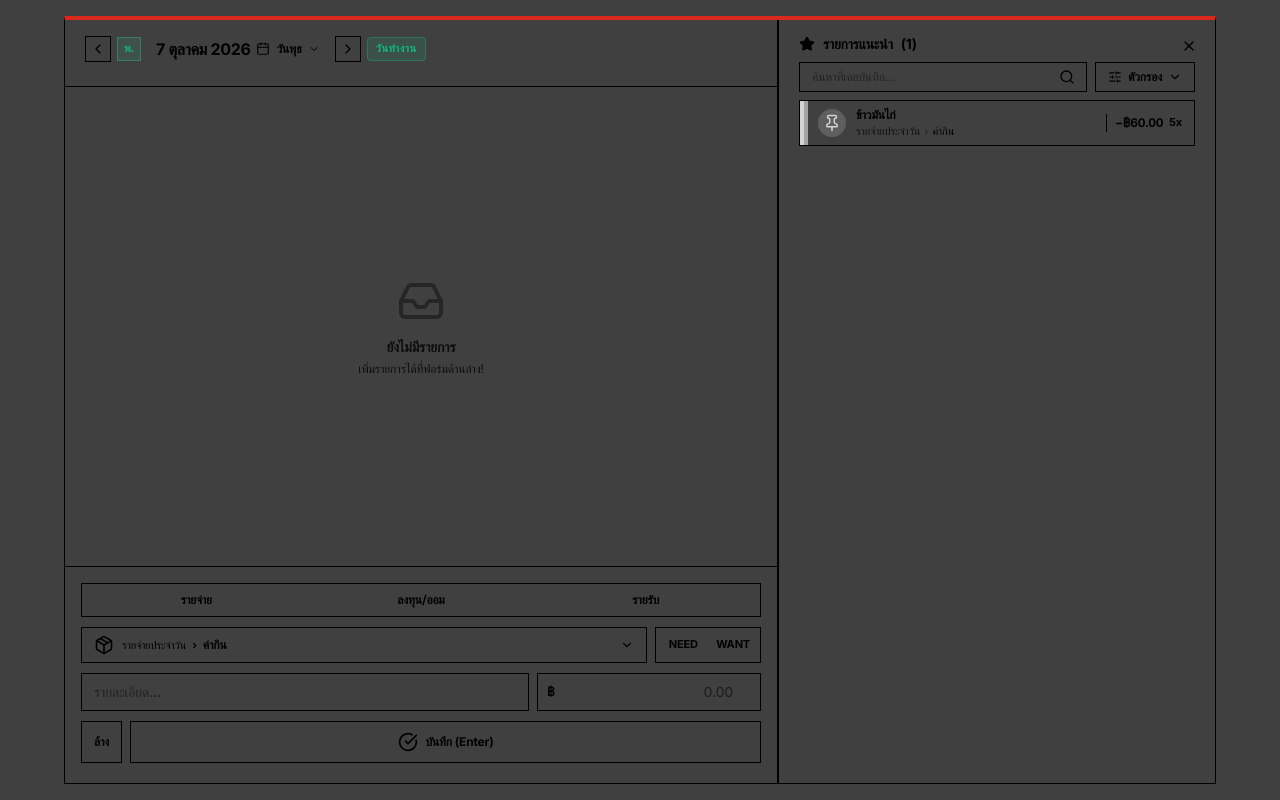
Test case: DayDetailModal — quick suggestions › switches to the income suggestions when the form switches to income
The width and height of the screenshot is (1280, 800).
What coordinates should you click on to do the following:
click the button "รายรับ"
I would click on:
 (646, 600)
Its box is 533,586 -> 758,614.
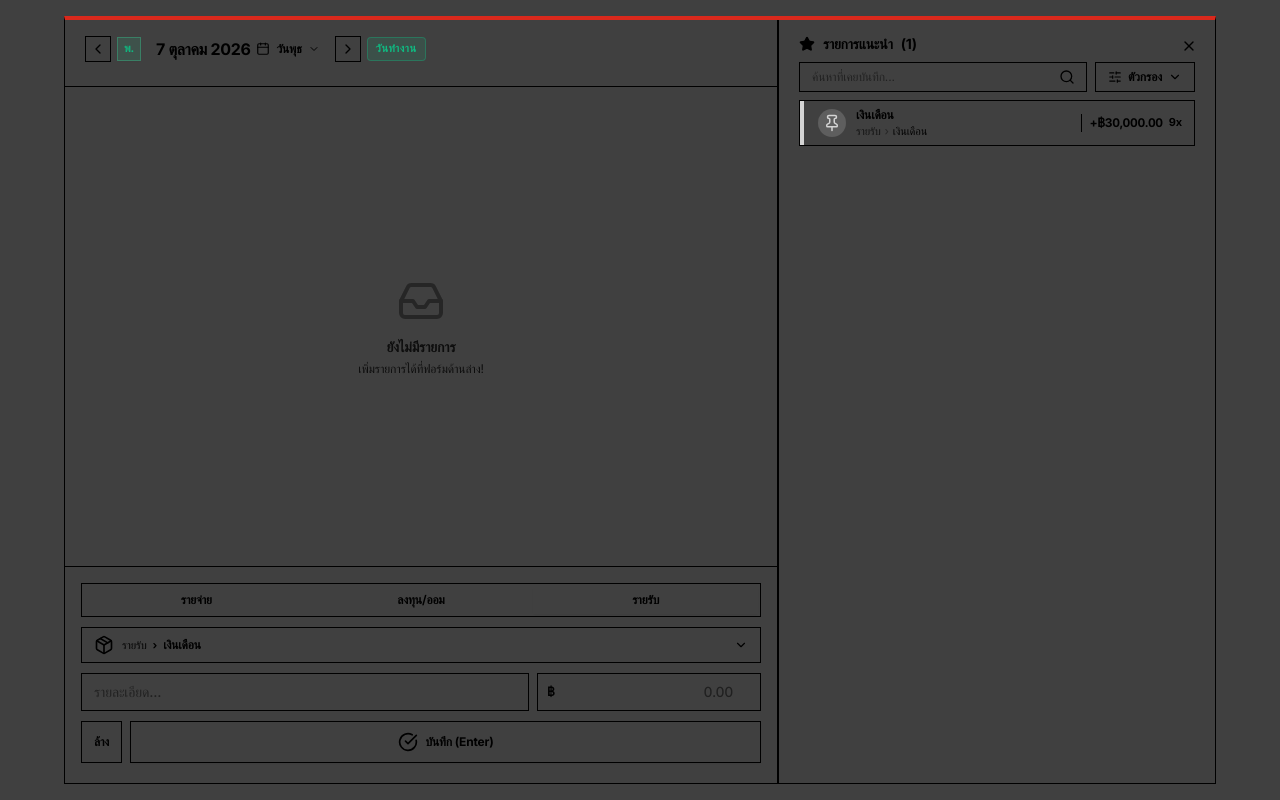
Expected: the button with class "sugg-item" shows "เงินเดือน", 799,100 -> 1195,146
